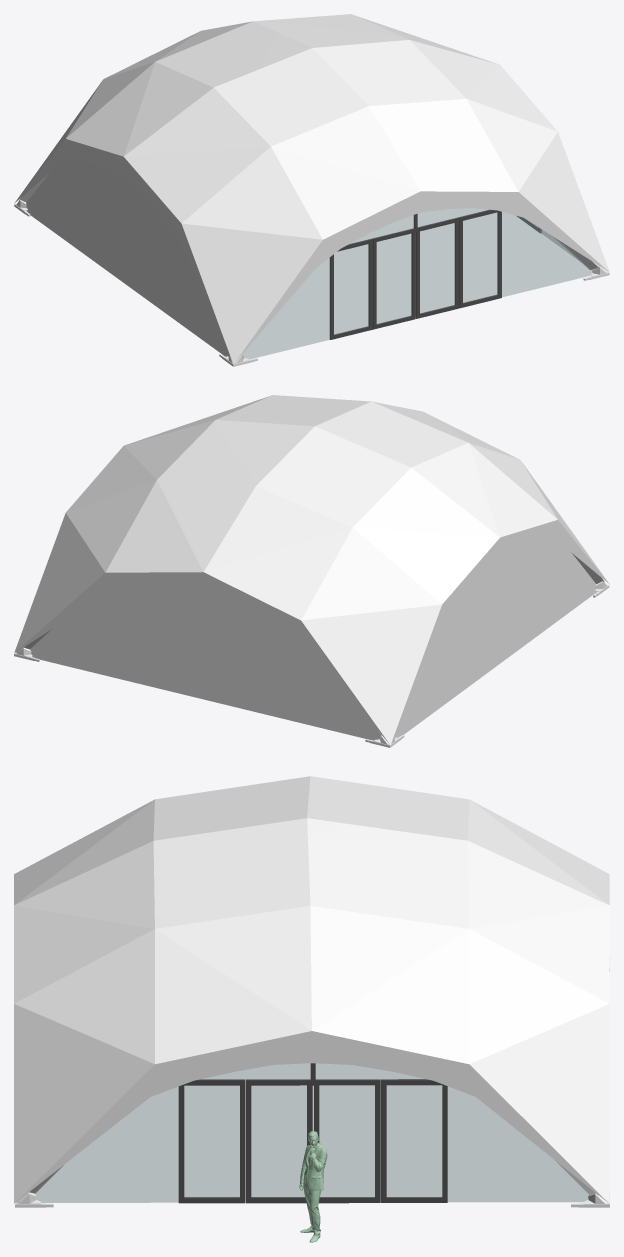
File: eco100.glb
The picture shows the model from 3 angles, top to bottom: view 1: azimuth 30°, elevation 25°; view 2: azimuth 150°, elevation 25°; view 3: azimuth 270°, elevation 25°; orthographic projection. The views are drawn at different scales.
Visible parts, largest first — view 1: tent, windows-2, sidewall-1, logo-area-3, logo-area-2, ОСТЕКЛЕНИЕ003, ОСТЕКЛЕНИЕ005, ОСТЕКЛЕНИЕ006, ОСТЕКЛЕНИЕ007; view 2: tent, sidewall-2, sidewall-1, logo-area-4, logo-area-1; view 3: tent, windows-1, logo-area-2, logo-area-1, ОСТЕКЛЕНИЕ, ОСТЕКЛЕНИЕ.003, ОСТЕКЛЕНИЕ.001, human, ОСТЕКЛЕНИЕ.002.
Boxes of the visible parts, left/top/right/bottom form: tent: left=15, top=14, right=608, bottom=361; windows-2: left=242, top=208, right=592, bottom=359; sidewall-1: left=26, top=160, right=228, bottom=356; logo-area-3: left=182, top=223, right=322, bottom=363; logo-area-2: left=519, top=132, right=609, bottom=272; ОСТЕКЛЕНИЕ003: left=415, top=217, right=458, bottom=318; ОСТЕКЛЕНИЕ005: left=329, top=238, right=372, bottom=339; ОСТЕКЛЕНИЕ006: left=372, top=228, right=415, bottom=329; ОСТЕКЛЕНИЕ007: left=458, top=209, right=501, bottom=308; tent: left=15, top=395, right=609, bottom=743; sidewall-2: left=30, top=589, right=381, bottom=740; sidewall-1: left=395, top=542, right=596, bottom=737; logo-area-4: left=301, top=604, right=441, bottom=744; logo-area-1: left=14, top=513, right=105, bottom=652; tent: left=14, top=776, right=609, bottom=1203; windows-1: left=34, top=1063, right=588, bottom=1202; logo-area-2: left=14, top=1004, right=154, bottom=1203; logo-area-1: left=469, top=1004, right=609, bottom=1203; ОСТЕКЛЕНИЕ: left=178, top=1079, right=245, bottom=1203; ОСТЕКЛЕНИЕ.003: left=381, top=1079, right=447, bottom=1202; ОСТЕКЛЕНИЕ.001: left=246, top=1079, right=312, bottom=1203; human: left=299, top=1131, right=327, bottom=1242; ОСТЕКЛЕНИЕ.002: left=314, top=1079, right=380, bottom=1203.
Size of the model in its own units: 114 by 49.92 by 101.
